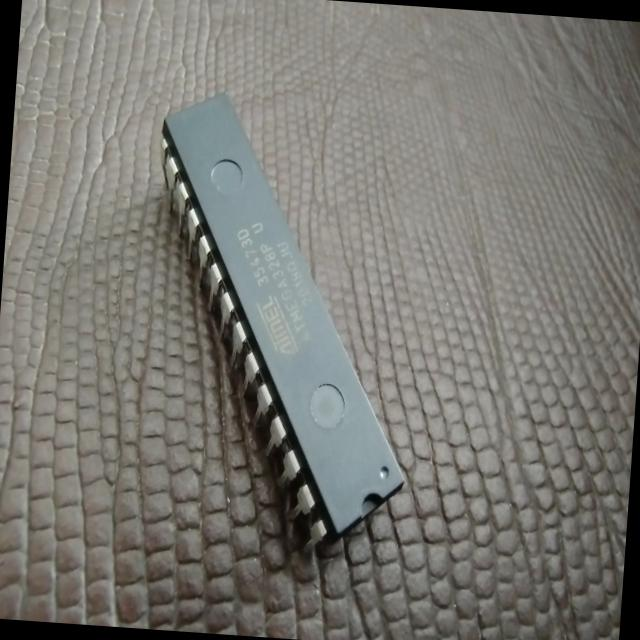atmega: (130, 84, 433, 557)
